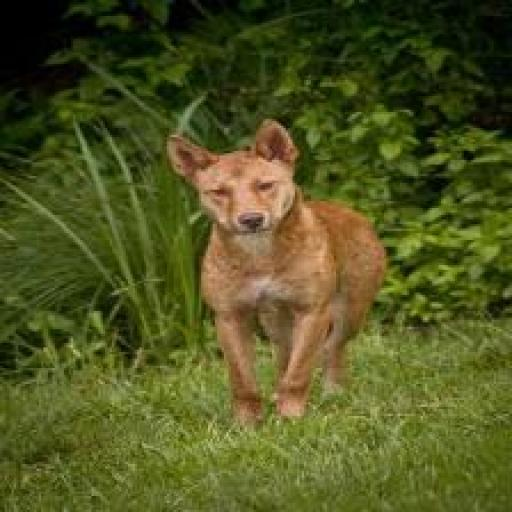wolf: (162, 119, 393, 436)
